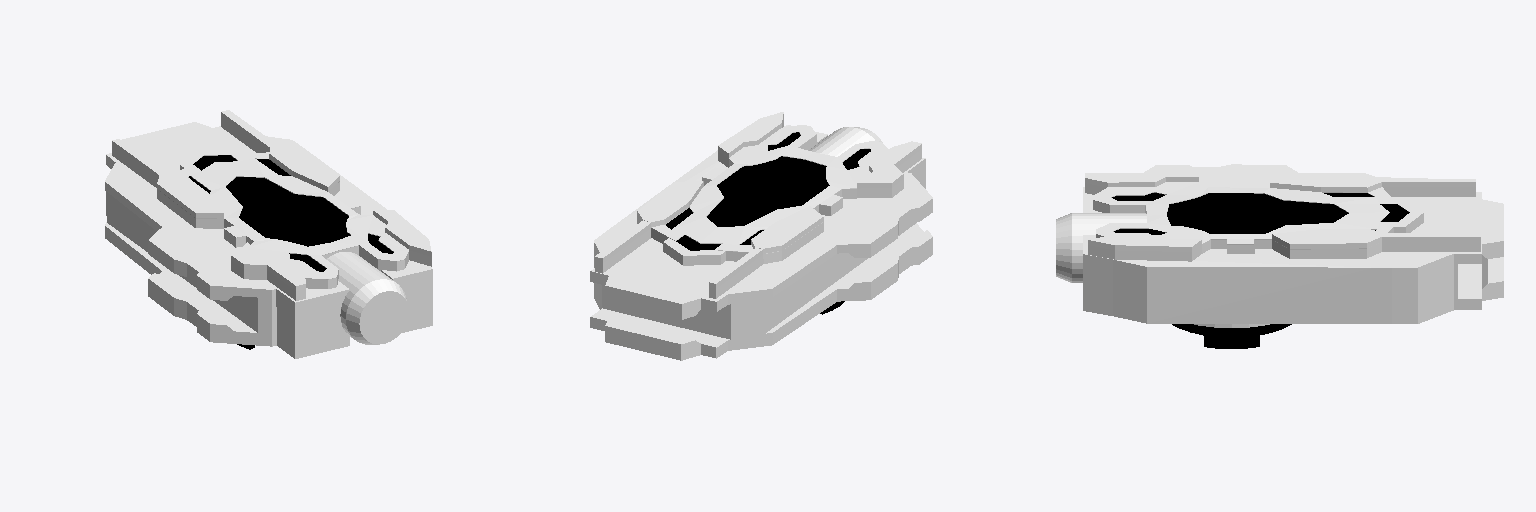
File: launcher_body.obj
3 renders of one model, left to right at view 1: azimuth 30°, elevation 25°; view 2: azimuth 150°, elevation 25°; view 3: azimuth 270°, elevation 25°, orthographic.
Parts seen in each view (by area): view 1: Plane.004, Plane.003, Cylinder.005; view 2: Plane.004, Plane.003, Cylinder.005; view 3: Plane.004, Plane.003, Cylinder.005, Cylinder.008.
Boxes of the visible parts, x1,y1,x2,y2 form: Plane.004: [105, 122, 432, 358]; Plane.003: [112, 110, 431, 300]; Cylinder.005: [326, 252, 408, 344]; Plane.004: [590, 125, 932, 360]; Plane.003: [595, 112, 921, 298]; Cylinder.005: [809, 127, 882, 156]; Plane.004: [1083, 164, 1503, 323]; Plane.003: [1085, 165, 1480, 261]; Cylinder.005: [1056, 213, 1146, 282]; Cylinder.008: [1172, 324, 1291, 348].
Bounding box in the file's own units: 0.5288 × 0.2643 × 0.9689.